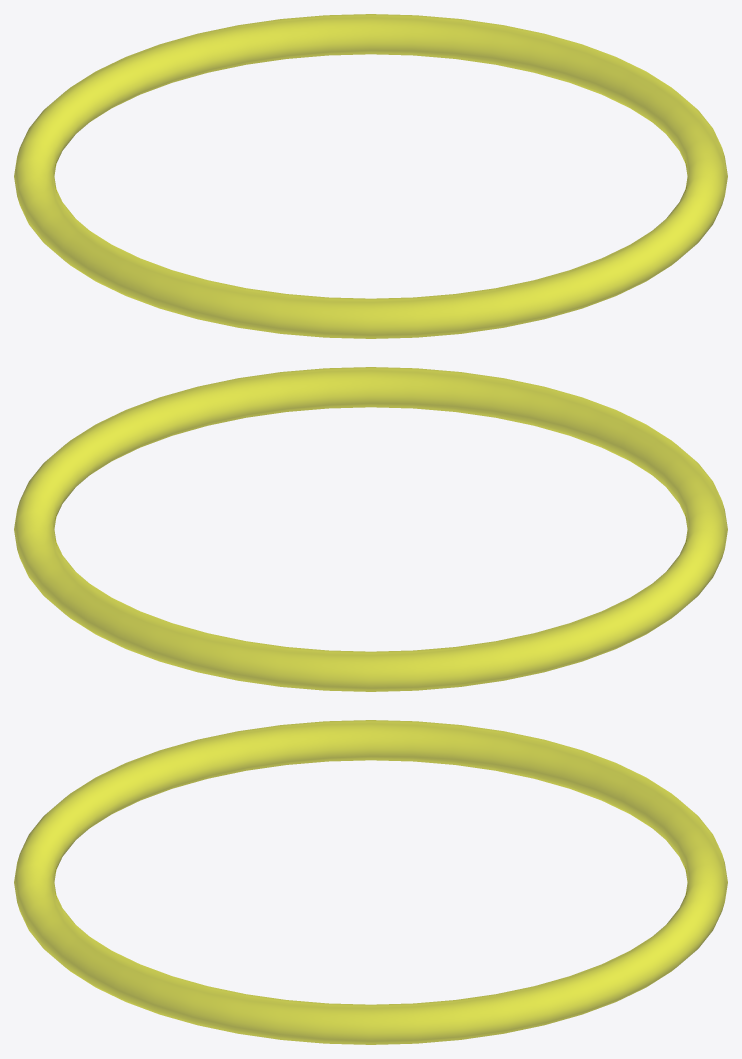
The model's file is chegada.gltf.
3 renders of one model, top to bottom at view 1: azimuth 30°, elevation 25°; view 2: azimuth 150°, elevation 25°; view 3: azimuth 270°, elevation 25°, orthographic.
Parts seen in each view (by area): view 1: Toróide; view 2: Toróide; view 3: Toróide.
Part boxes in pixels (x1=…): Toróide: x1=14, y1=14, x2=727, y2=338; Toróide: x1=14, y1=367, x2=727, y2=691; Toróide: x1=14, y1=720, x2=727, y2=1044.
Size of the model in its own units: 8.82 by 0.5 by 8.82.
